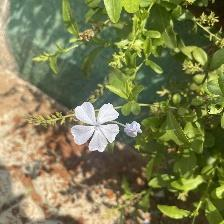chitrak: (72, 99, 121, 158)
